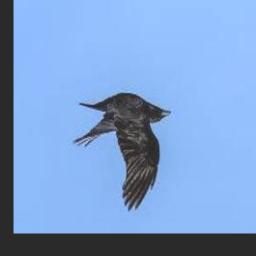Crow: (73, 94, 172, 211)
